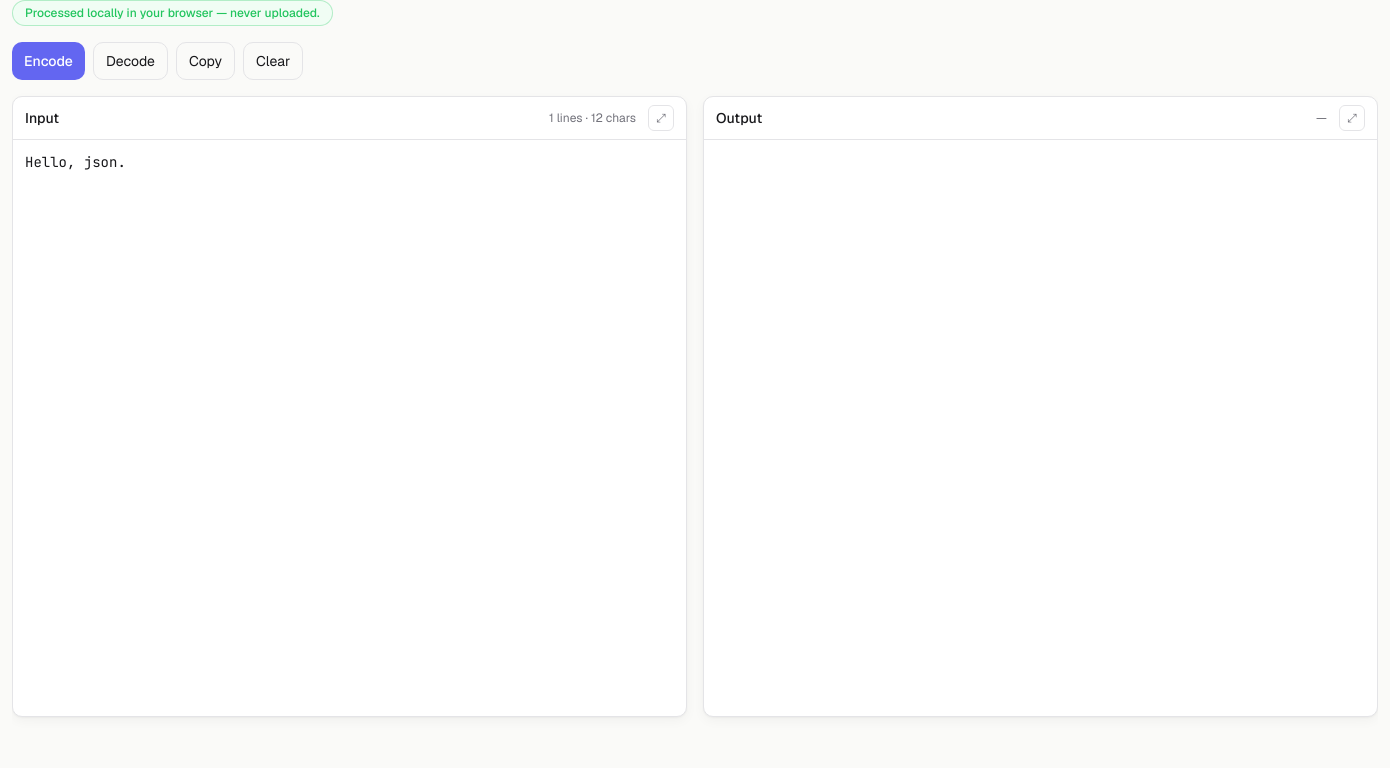
Test: Base64Tool › decodes base64 text
Clear the text box named "input" at x=350, y=428, box 13,140 -> 686,716
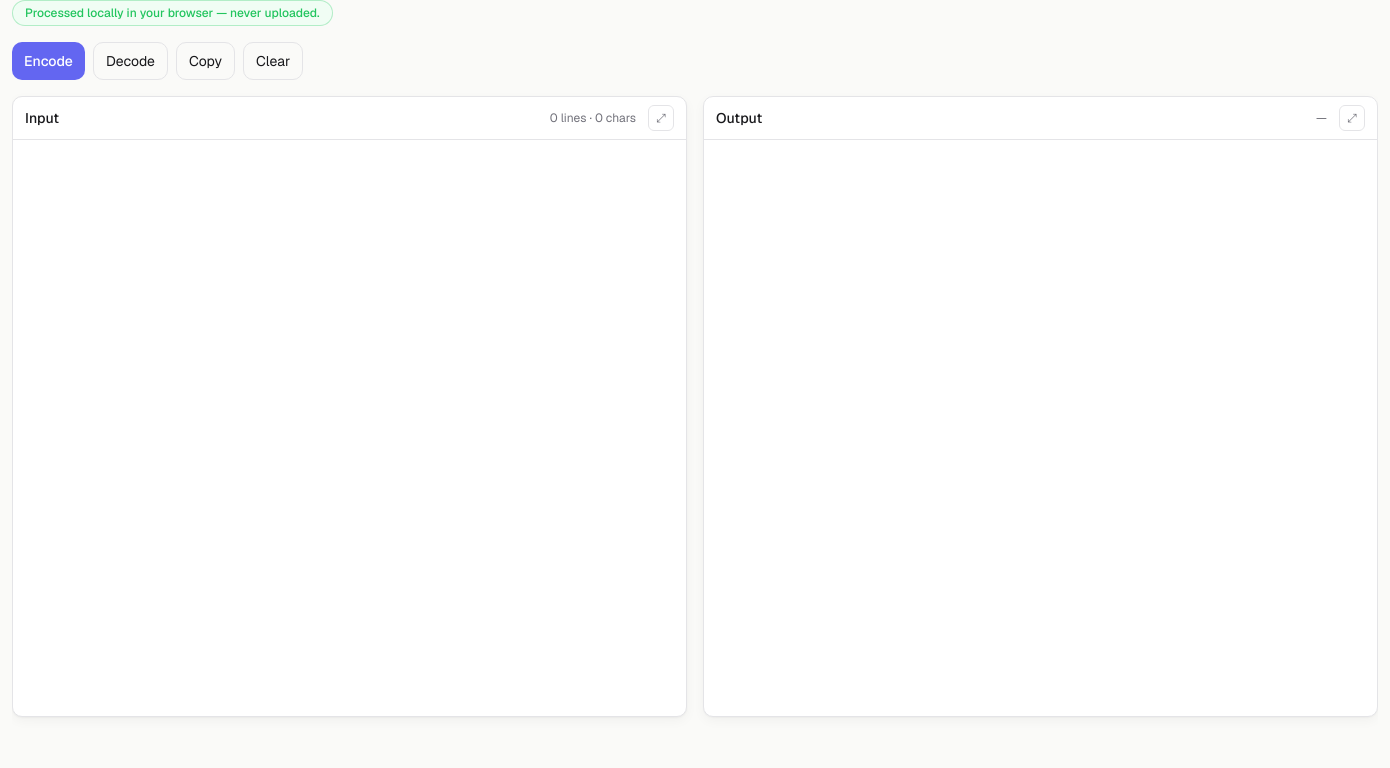
Type keys "SGVsbG8="
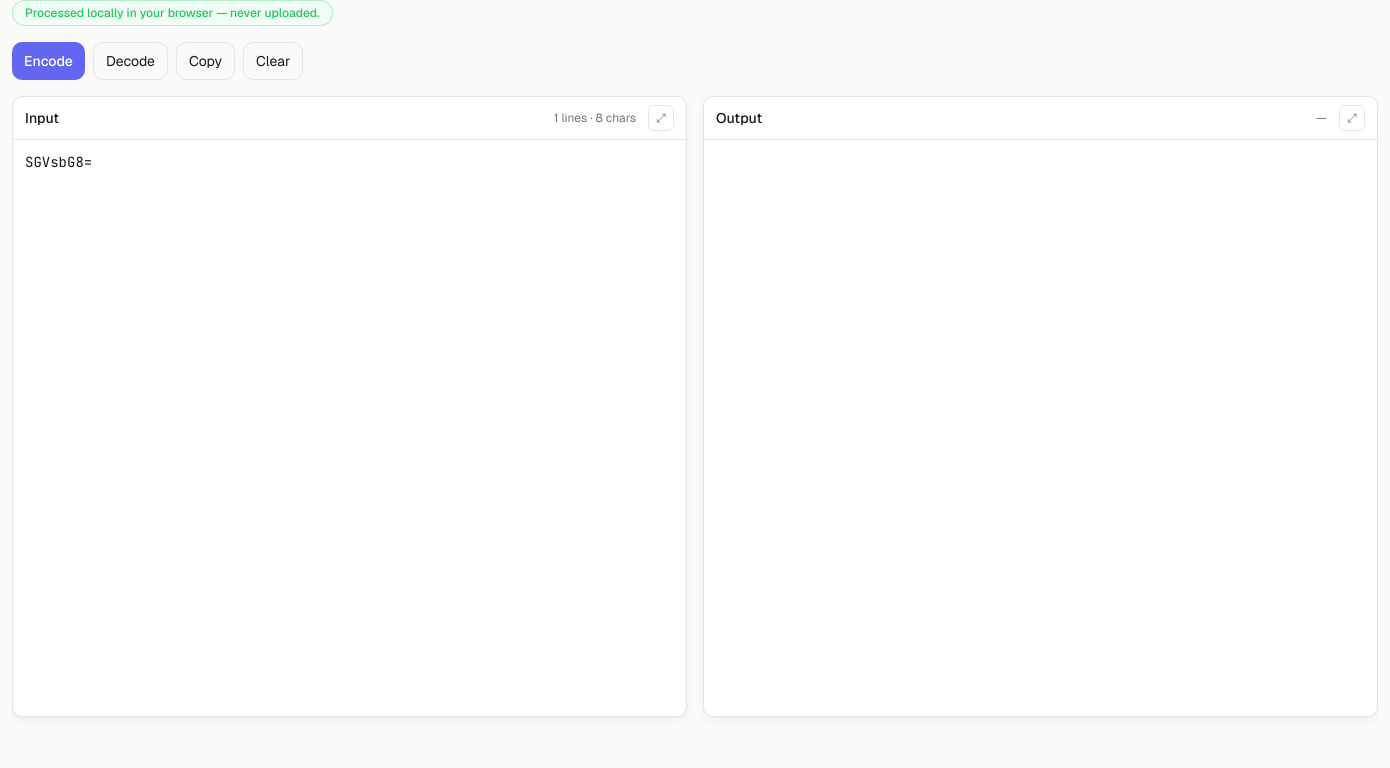
Click the button "Decode" at x=130, y=61, box 93,42 -> 168,80
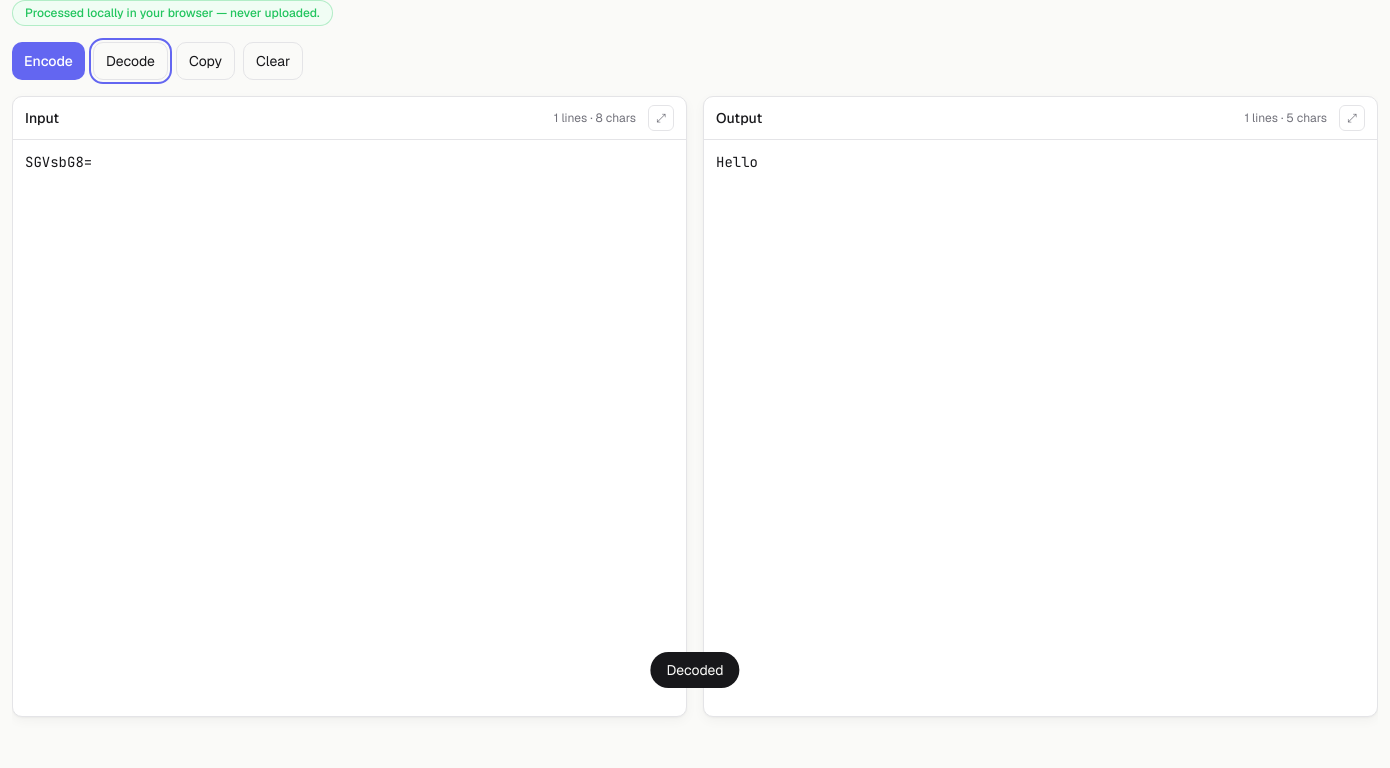
Expected: the text box named "output" holds "Hello", 704,140 -> 1377,716
